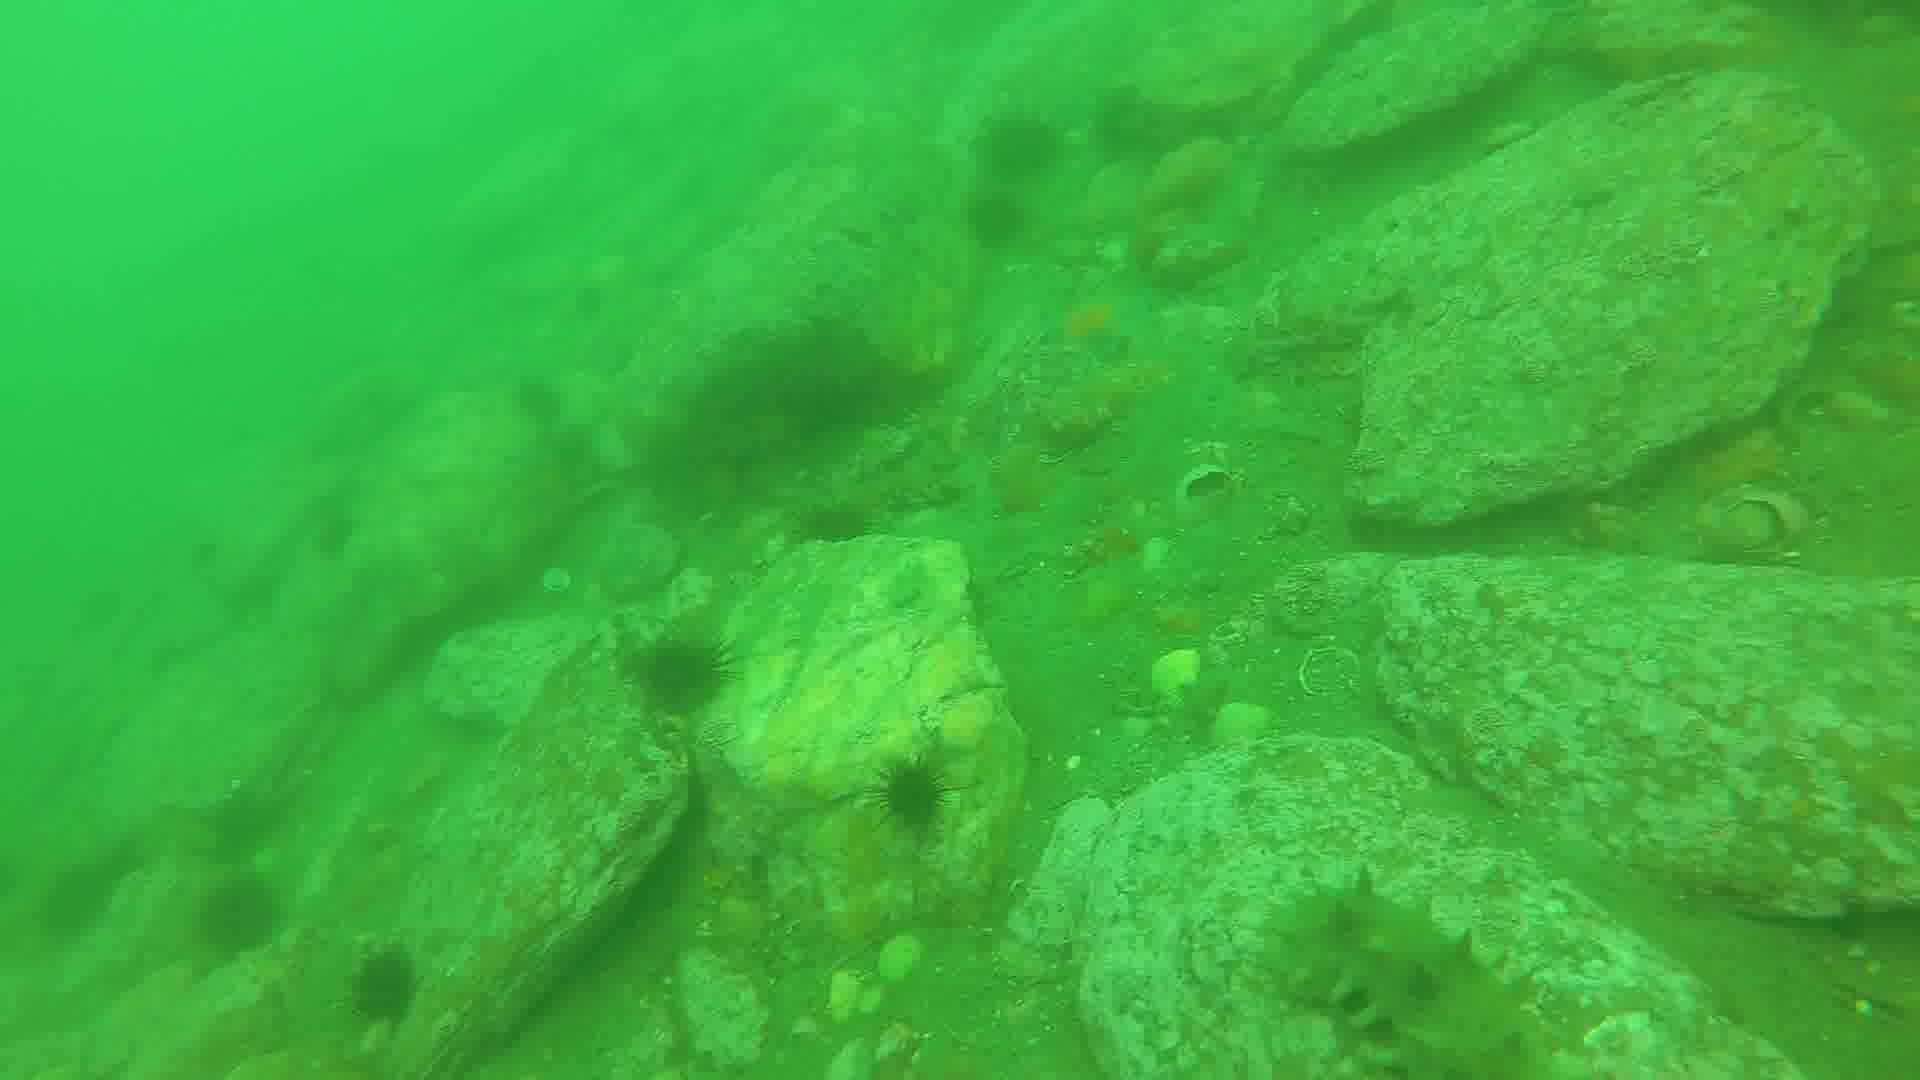echinus: (647, 630, 737, 712), (208, 870, 287, 956), (992, 112, 1073, 193), (881, 761, 957, 836), (356, 945, 423, 1025), (972, 181, 1027, 247)
holothurian: (1269, 878, 1561, 1080)
starfish: (1058, 290, 1160, 369)
